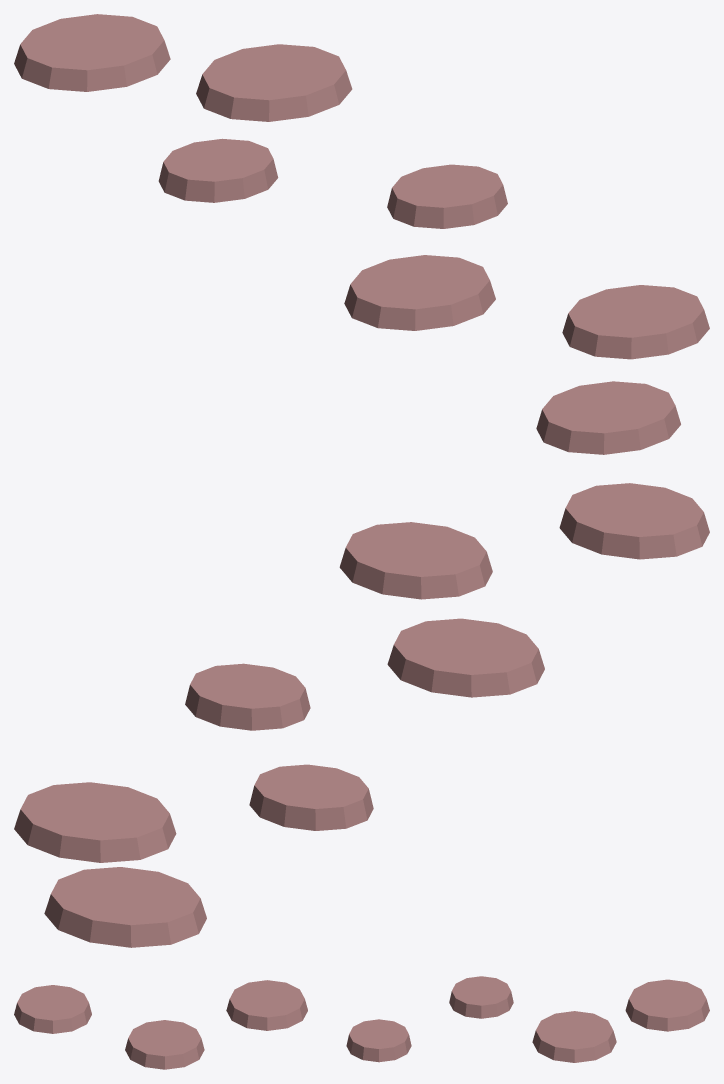
File: stepping_stones.obj
3 renders of one model, top to bottom at view 1: azimuth 30°, elevation 25°; view 2: azimuth 150°, elevation 25°; view 3: azimuth 270°, elevation 25°, orthographic. The views are drawn at different scales.
Parts seen in each view (by area): view 1: stepping_stones_stone_pink; view 2: stepping_stones_stone_pink; view 3: stepping_stones_stone_pink.
Boxes of the visible parts, box(x1,y1,x2,y2) form: stepping_stones_stone_pink: box(14, 14, 709, 454); stepping_stones_stone_pink: box(14, 483, 709, 947); stepping_stones_stone_pink: box(14, 976, 709, 1069).
Bounding box in the file's own units: 1.06 × 0.07 × 3.74.
